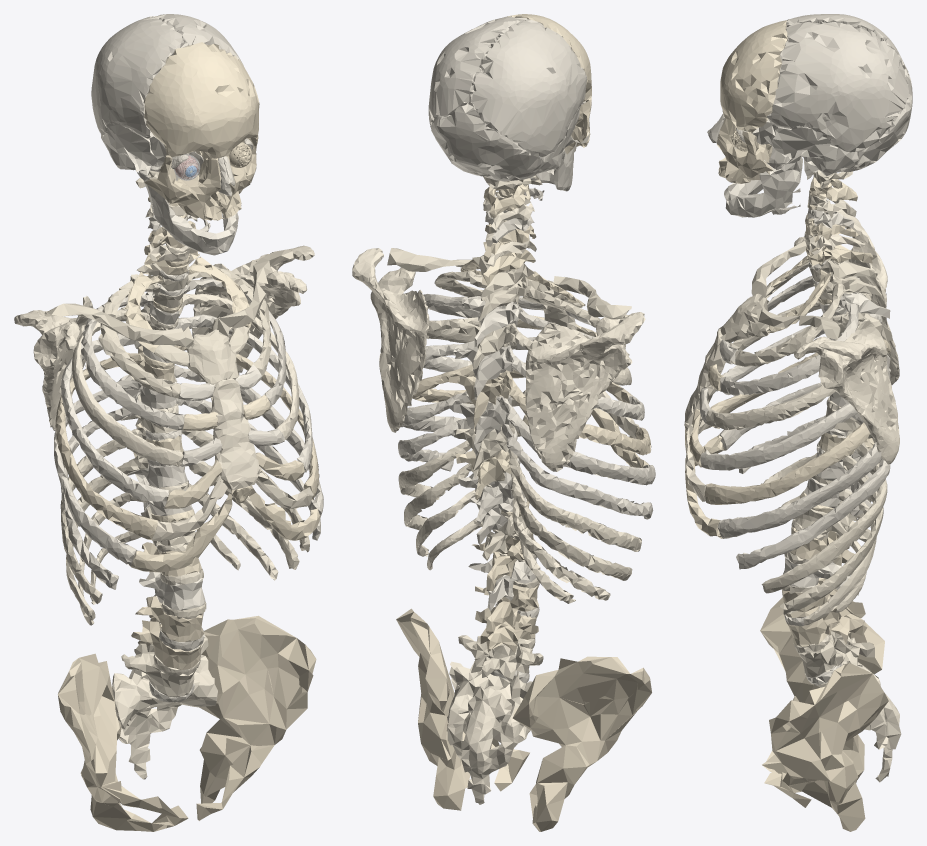
Rendered from scheletro.glb.
The picture shows the model from 3 angles, left to right: view 1: azimuth 30°, elevation 25°; view 2: azimuth 150°, elevation 25°; view 3: azimuth 270°, elevation 25°; orthographic projection. The views are drawn at different scales.
Parts seen in each view (by area): view 1: left hip, frontal bone, right hip, right parietal bone, posterior part of pelvis, body of sternum, left scapula, right scapula, right sixth rib, right fourth rib, right fifth rib, right third rib (+41 smaller); view 2: right hip, right parietal bone, right scapula, posterior part of pelvis, left scapula, left hip, occipital bone, left parietal bone, right eighth rib, right ninth rib, right tenth rib, fifth lumbar vertebra (+45 smaller); view 3: left parietal bone, left hip, left scapula, frontal bone, right hip, left sixth rib, left seventh rib, mandible, left temporal bone, left eighth rib, left fifth rib, left ninth rib (+43 smaller).
Part boxes in pixels (x1=…): left hip: x1=196, y1=615, x2=316, y2=820; frontal bone: x1=144, y1=42, x2=259, y2=160; right hip: x1=58, y1=653, x2=188, y2=831; right parietal bone: x1=91, y1=16, x2=188, y2=138; posterior part of pelvis: x1=112, y1=655, x2=217, y2=779; body of sternum: x1=211, y1=378, x2=259, y2=490; left scapula: x1=192, y1=245, x2=314, y2=375; right scapula: x1=14, y1=296, x2=93, y2=430; right sixth rib: x1=55, y1=353, x2=157, y2=540; right fourth rib: x1=72, y1=309, x2=183, y2=466; right fifth rib: x1=61, y1=333, x2=168, y2=507; right third rib: x1=81, y1=294, x2=184, y2=430; right hip: x1=512, y1=656, x2=651, y2=831; right parietal bone: x1=469, y1=19, x2=586, y2=156; right scapula: x1=525, y1=312, x2=645, y2=471; posterior part of pelvis: x1=447, y1=661, x2=532, y2=804; left scapula: x1=352, y1=248, x2=429, y2=432; left hip: x1=396, y1=608, x2=529, y2=810; occipital bone: x1=430, y1=102, x2=542, y2=181; left parietal bone: x1=428, y1=16, x2=526, y2=127; right eighth rib: x1=502, y1=424, x2=653, y2=519; right ninth rib: x1=507, y1=449, x2=641, y2=551; right tenth rib: x1=511, y1=472, x2=632, y2=580; fifth lumbar vertebra: x1=458, y1=635, x2=543, y2=683; left parietal bone: x1=766, y1=21, x2=908, y2=152; left hip: x1=764, y1=662, x2=888, y2=831; left scapula: x1=794, y1=319, x2=899, y2=464; frontal bone: x1=720, y1=20, x2=787, y2=133; right hip: x1=760, y1=597, x2=884, y2=779; left sixth rib: x1=704, y1=422, x2=870, y2=504; left seventh rib: x1=717, y1=442, x2=881, y2=538; mandible: x1=724, y1=156, x2=802, y2=217; left temporal bone: x1=764, y1=125, x2=858, y2=179; left eighth rib: x1=736, y1=413, x2=890, y2=569; left fifth rib: x1=700, y1=402, x2=857, y2=470; left ninth rib: x1=761, y1=431, x2=887, y2=593.
Size of the model in its own units: 333 by 884 by 232.
